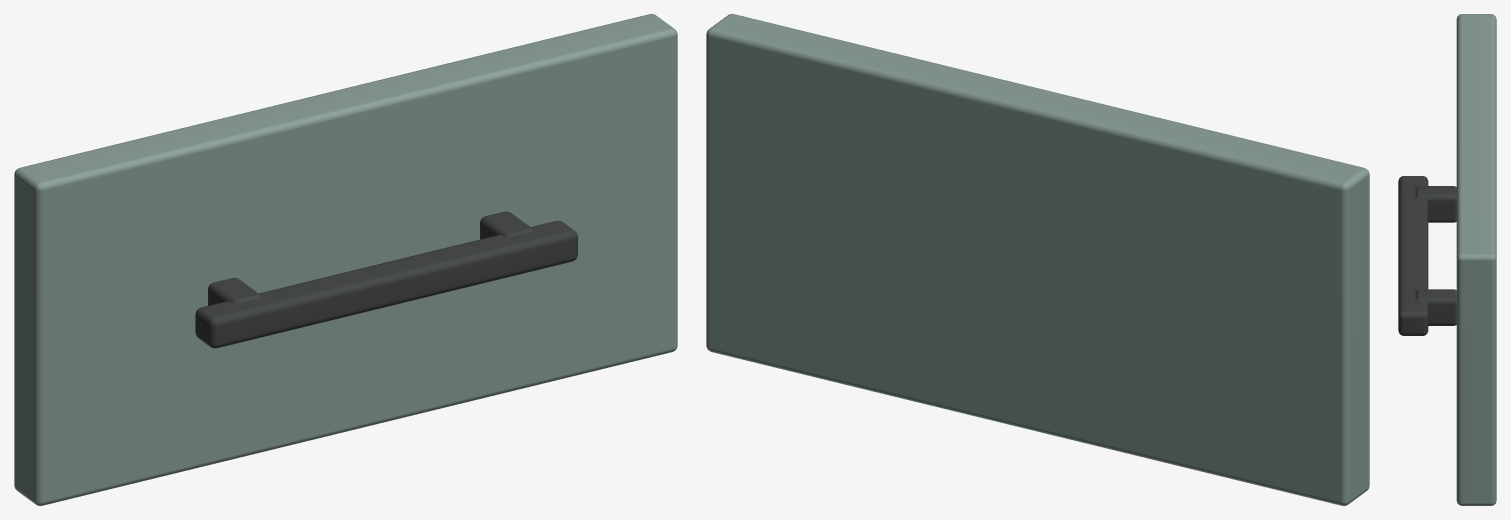
Rendered from barra-grafite.glb.
3 views of the same model, side by side, from view 1: azimuth 30°, elevation 25°; view 2: azimuth 150°, elevation 25°; view 3: azimuth 270°, elevation 25° (orthographic). The views are drawn at different scales.
Parts seen in each view (by area): view 1: Frente em laca, Barra, Base do puxador.001, Base do puxador; view 2: Frente em laca; view 3: Frente em laca, Barra, Base do puxador.001, Base do puxador.
Part boxes in pixels (x1=…): Frente em laca: x1=14, y1=14, x2=677, y2=505; Barra: x1=195, y1=220, x2=577, y2=348; Base do puxador.001: x1=480, y1=211, x2=533, y2=239; Base do puxador: x1=208, y1=278, x2=261, y2=305; Frente em laca: x1=706, y1=14, x2=1369, y2=505; Frente em laca: x1=1456, y1=14, x2=1496, y2=505; Barra: x1=1398, y1=176, x2=1428, y2=335; Base do puxador.001: x1=1415, y1=289, x2=1456, y2=325; Base do puxador: x1=1415, y1=186, x2=1456, y2=222.
Bounding box in the file's own units: 2.6 × 1.25 × 0.4425.
